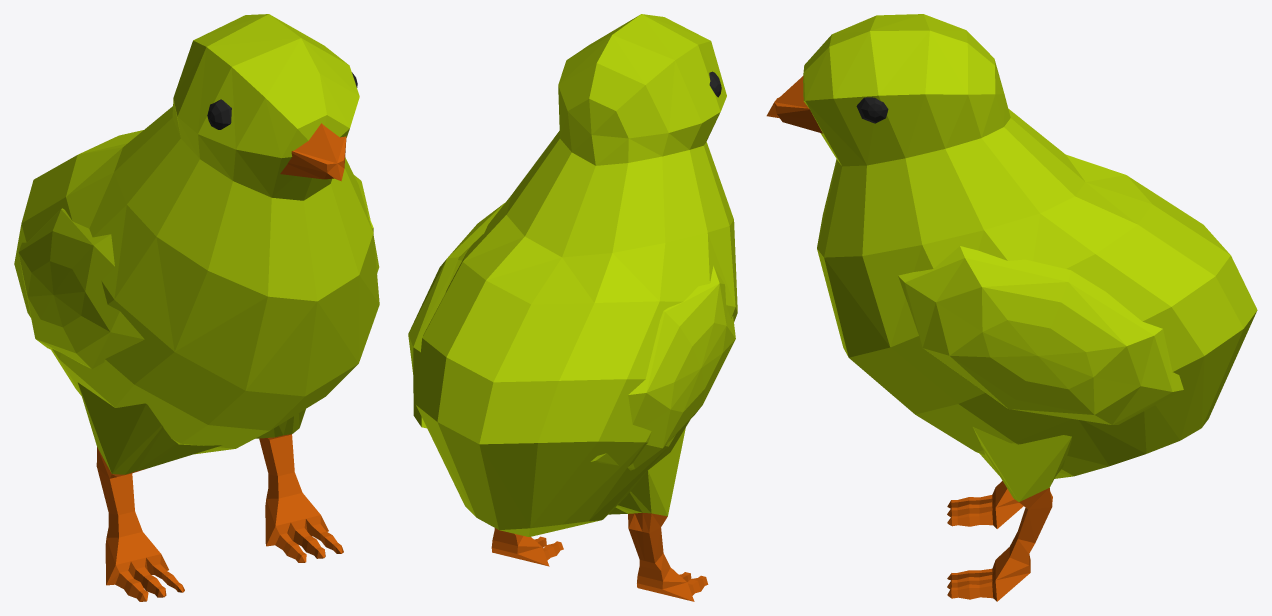
File: chick-lowpoly.dae
3 views of the same model, side by side, from view 1: azimuth 30°, elevation 25°; view 2: azimuth 150°, elevation 25°; view 3: azimuth 270°, elevation 25° (orthographic). The views are drawn at different scales.
Visible parts, largest first — view 1: Sphere, Cube, Sphere_002, Cube_001, Sphere_001; view 2: Sphere, Sphere_002, Cube; view 3: Sphere, Sphere_002, Cube, Cube_001.
Boxes of the visible parts, x1,y1,x2,y2 form: Sphere: (14,14,379,454); Cube: (77,382,343,601); Sphere_002: (18,175,379,370); Cube_001: (280,123,346,181); Sphere_001: (207,72,357,129); Sphere: (416,14,737,536); Sphere_002: (408,203,735,470); Cube: (491,428,708,601); Sphere: (803,14,1257,478); Sphere_002: (898,246,1183,424); Cube: (947,427,1071,601); Cube_001: (766,75,822,133).
Bounding box in the file's own units: 5.58 × 8.86 × 10.53.
